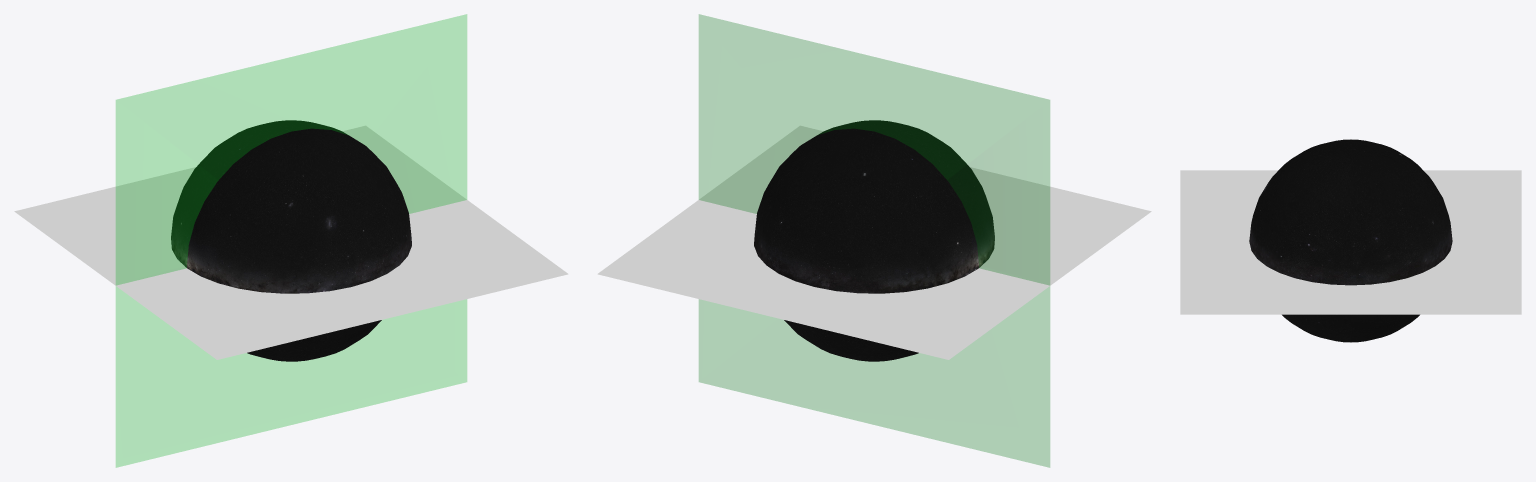
Rendered from portal-3.glb.
3 views of the same model, side by side, from view 1: azimuth 30°, elevation 25°; view 2: azimuth 150°, elevation 25°; view 3: azimuth 270°, elevation 25° (orthographic). The views are drawn at different scales.
Visible parts, largest first — view 1: clip, skyOut, showIn, hideIn, skyIn; view 2: clip, skyIn, hideIn, showIn, skyOut; view 3: hideIn, showIn, skyOut, skyIn.
Boxes of the visible parts, bbox=[...] form: clip: bbox=[116, 14, 466, 467]; skyOut: bbox=[187, 128, 411, 361]; showIn: bbox=[116, 200, 568, 359]; hideIn: bbox=[14, 125, 466, 285]; skyIn: bbox=[171, 120, 348, 267]; clip: bbox=[699, 14, 1049, 467]; skyIn: bbox=[754, 128, 978, 361]; hideIn: bbox=[597, 200, 1049, 359]; showIn: bbox=[699, 125, 1151, 285]; skyOut: bbox=[817, 120, 994, 267]; hideIn: bbox=[1350, 170, 1521, 314]; showIn: bbox=[1180, 170, 1350, 314]; skyOut: bbox=[1249, 139, 1350, 342]; skyIn: bbox=[1351, 139, 1452, 342].
Size of the model in its own units: 200 by 200 by 200.
11 materials, 4 textured.
